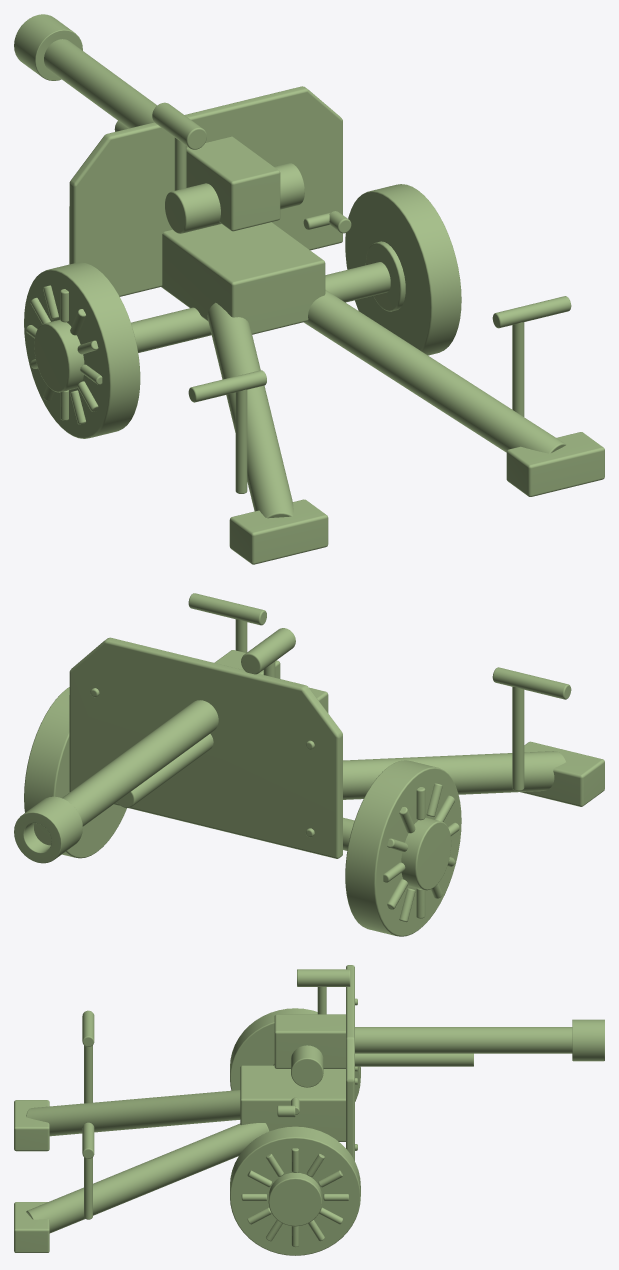
The model's file is antitank-gun.glb.
3 views of the same model, one above another, from view 1: azimuth 30°, elevation 25°; view 2: azimuth 150°, elevation 25°; view 3: azimuth 270°, elevation 25° (orthographic). The views are drawn at different scales.
Parts seen in each view (by area): view 1: Low armor shield, Carriage, Wheel.001, Wheel, Split trail.001, Split trail, Breech, Ground spade, Ground spade.001, Barrel, Axle, Elevation pivot (+8 smaller); view 2: Low armor shield, Wheel, Barrel, Split trail, Wheel.001, Open muzzle brake, Ground spade, Wheel hub, Recoil cylinder, Sight optic, Handle riser, Trail handle.001 (+2 smaller); view 3: Wheel.001, Split trail.001, Split trail, Barrel, Carriage, Breech, Wheel, Wheel hub.001, Recoil cylinder, Low armor shield, Ground spade, Ground spade.001 (+7 smaller).
Part boxes in pixels (x1=…): Low armor shield: x1=69, y1=86, x2=342, y2=296; Carriage: x1=161, y1=222, x2=325, y2=334; Wheel.001: x1=345, y1=184, x2=461, y2=355; Wheel: x1=24, y1=262, x2=140, y2=438; Split trail.001: x1=304, y1=290, x2=566, y2=453; Split trail: x1=207, y1=302, x2=293, y2=518; Breech: x1=186, y1=136, x2=280, y2=231; Ground spade: x1=229, y1=499, x2=328, y2=564; Ground spade.001: x1=506, y1=432, x2=604, y2=496; Barrel: x1=44, y1=39, x2=157, y2=128; Axle: x1=131, y1=262, x2=390, y2=352; Elevation pivot: x1=165, y1=163, x2=304, y2=233; Low armor shield: x1=69, y1=637, x2=342, y2=858; Wheel: x1=345, y1=760, x2=461, y2=936; Barrel: x1=34, y1=700, x2=218, y2=845; Split trail: x1=343, y1=751, x2=566, y2=799; Wheel.001: x1=24, y1=687, x2=126, y2=858; Open muzzle brake: x1=14, y1=796, x2=82, y2=863; Ground spade: x1=520, y1=741, x2=604, y2=806; Wheel hub: x1=401, y1=817, x2=451, y2=890; Recoil cylinder: x1=117, y1=734, x2=213, y2=807; Sight optic: x1=241, y1=628, x2=295, y2=674; Handle riser: x1=512, y1=687, x2=524, y2=791; Trail handle.001: x1=188, y1=593, x2=266, y2=625; Wheel.001: x1=230, y1=1126, x2=360, y2=1255; Split trail.001: x1=26, y1=1123, x2=269, y2=1233; Split trail: x1=26, y1=1090, x2=240, y2=1136; Barrel: x1=355, y1=1027, x2=572, y2=1053; Carriage: x1=240, y1=1065, x2=345, y2=1141; Breech: x1=274, y1=1014, x2=345, y2=1068; Wheel: x1=230, y1=1008, x2=360, y2=1101; Wheel hub.001: x1=268, y1=1172, x2=321, y2=1226; Recoil cylinder: x1=355, y1=1053, x2=473, y2=1066; Low armor shield: x1=346, y1=965, x2=354, y2=1160; Ground spade: x1=14, y1=1100, x2=49, y2=1151; Ground spade.001: x1=14, y1=1202, x2=49, y2=1252.
Size of the model in its own units: 0.224 by 0.152 by 0.397.
